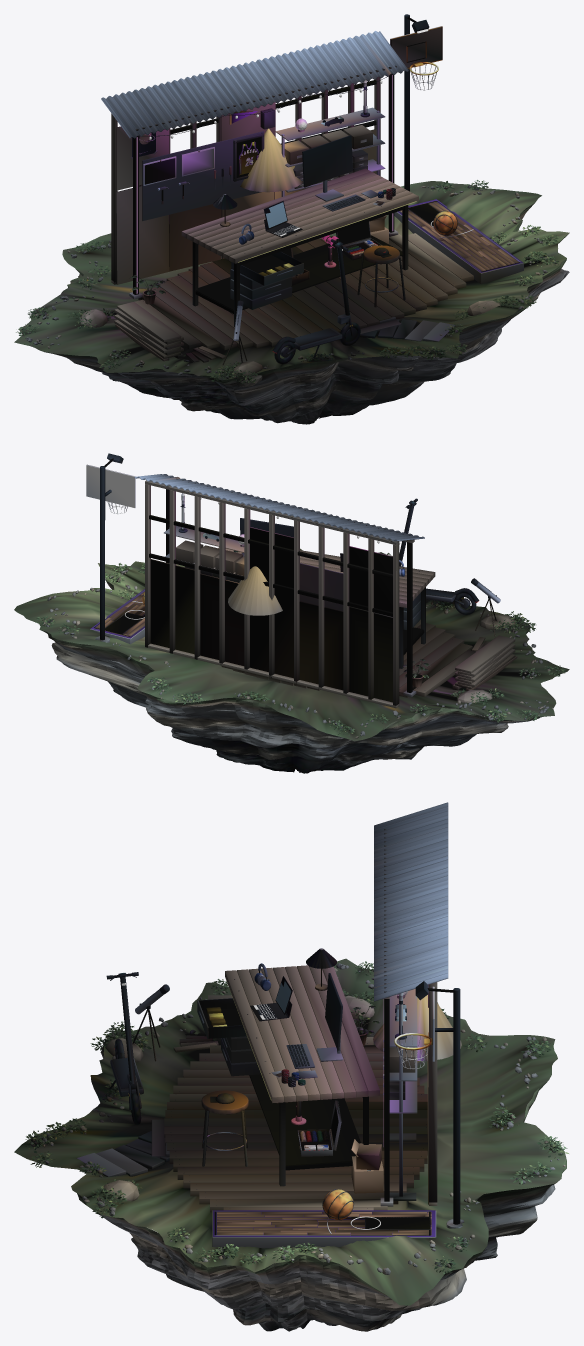
The model's file is flight-projects-c10994e1.glb.
3 views of the same model, one above another, from view 1: azimuth 30°, elevation 25°; view 2: azimuth 150°, elevation 25°; view 3: azimuth 270°, elevation 25° (orthographic). The views are drawn at different scales.
Visible parts, largest first — view 1: Projects island · flight.001; view 2: Projects island · flight.001; view 3: Projects island · flight.001.
Part boxes in pixels (box(x1,y1,x2,y2)): Projects island · flight.001: box(14, 14, 569, 424); Projects island · flight.001: box(14, 453, 569, 773); Projects island · flight.001: box(14, 802, 568, 1331).
Bounding box in the file's own units: 12.7 × 7.34 × 8.69.
